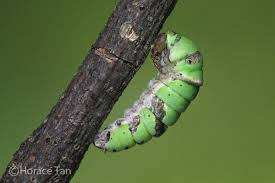Caterpillar: (92, 30, 206, 155)
